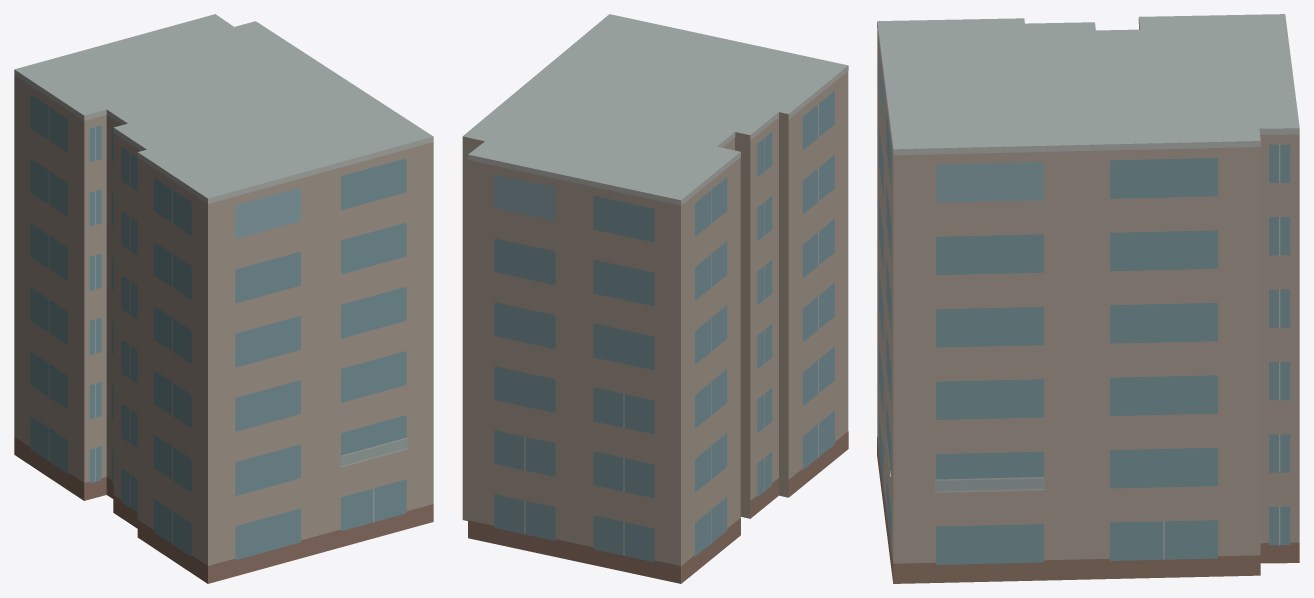
Rendered from survey-upis-32727563.glb.
3 renders of one model, left to right at view 1: azimuth 30°, elevation 25°; view 2: azimuth 150°, elevation 25°; view 3: azimuth 270°, elevation 25°, orthographic. The views are drawn at different scales.
Parts seen in each view (by area): view 1: survey-upis-32727563.tmp; view 2: survey-upis-32727563.tmp; view 3: survey-upis-32727563.tmp.
Part boxes in pixels (box(x1,y1,x2,y2)): survey-upis-32727563.tmp: box(14, 14, 433, 583); survey-upis-32727563.tmp: box(462, 14, 848, 583); survey-upis-32727563.tmp: box(877, 14, 1299, 583).
Size of the model in its own units: 11.69 by 17.5 by 15.43.
